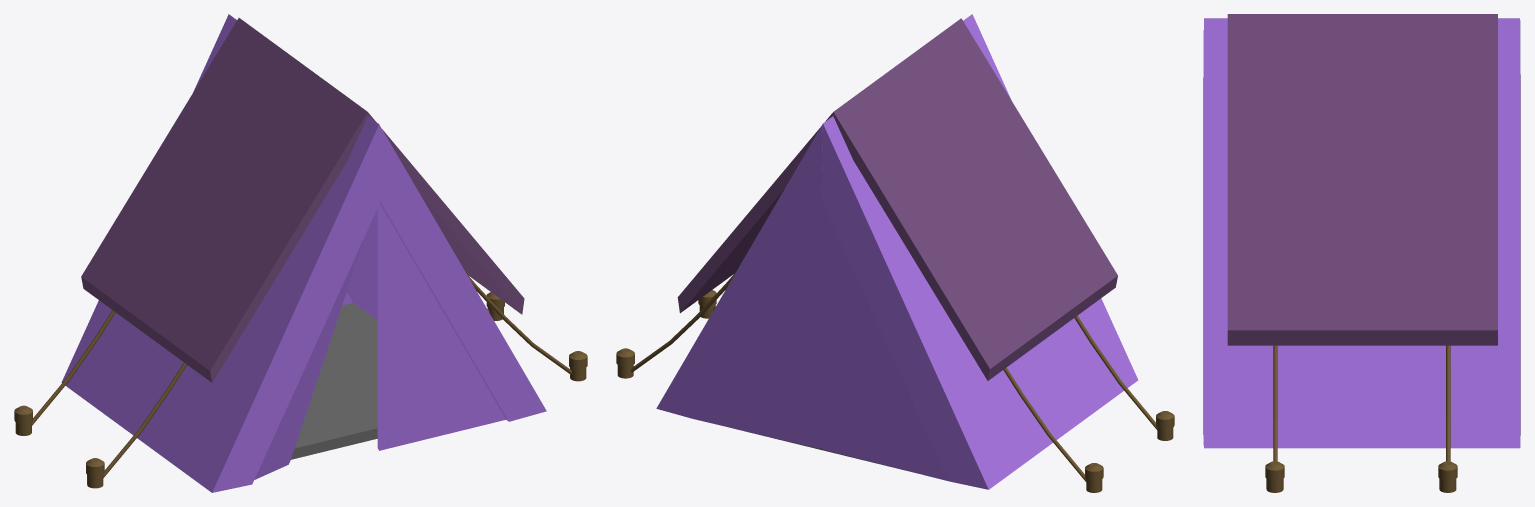
The model's file is Purple Tent.glb.
3 views of the same model, side by side, from view 1: azimuth 30°, elevation 25°; view 2: azimuth 150°, elevation 25°; view 3: azimuth 270°, elevation 25° (orthographic). The views are drawn at different scales.
Visible parts, largest first — view 1: Cube, Cube.001, Plane, Cylinder.003, Cylinder.004, Cylinder.010; view 2: Cube, Cube.001, Cylinder.004, Cylinder.003, Cylinder.009; view 3: Cube.001, Cube, Cylinder.009, Cylinder.010, Cylinder.008.
Boxes of the visible parts, box(x1,y1,x2,y2) form: Cube: box(61, 14, 546, 492); Cube.001: box(81, 18, 524, 382); Plane: box(291, 303, 377, 459); Cylinder.003: box(103, 362, 186, 477); Cylinder.004: box(32, 310, 115, 425); Cylinder.010: box(466, 273, 572, 374); Cube: box(656, 14, 1138, 489); Cube.001: box(677, 18, 1117, 380); Cylinder.004: box(1003, 367, 1086, 481); Cylinder.003: box(1074, 316, 1157, 429); Cylinder.009: box(631, 272, 735, 372); Cube.001: box(1227, 14, 1497, 345); Cube: box(1203, 18, 1520, 448); Cylinder.009: box(1446, 345, 1450, 461); Cylinder.010: box(1273, 345, 1277, 461); Cylinder.008: box(1438, 461, 1457, 480).
Size of the model in its own units: 0.4899 by 0.3255 by 0.2629.
